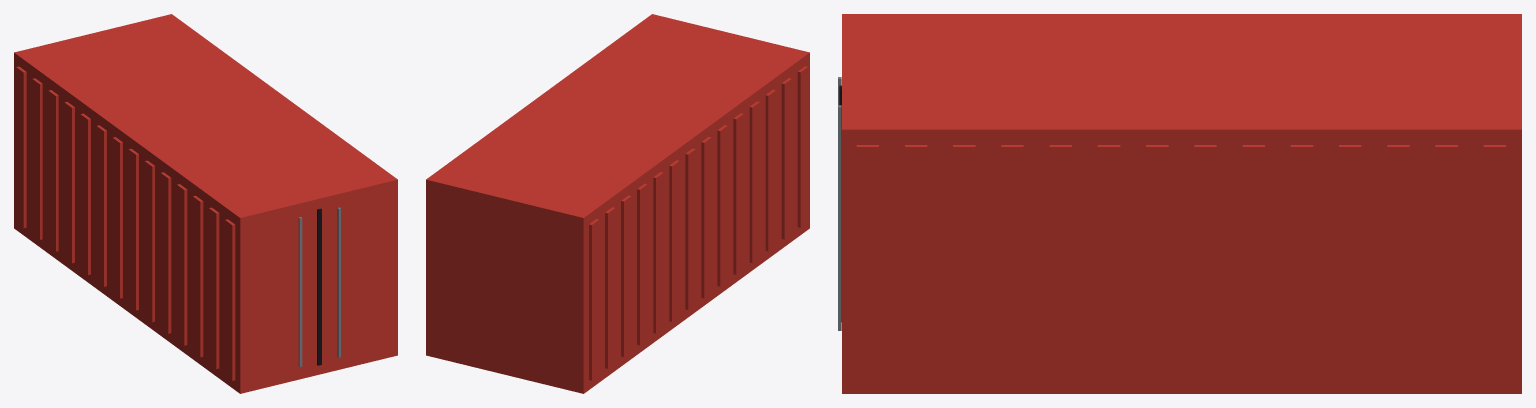
The model's file is container.glb.
3 views of the same model, side by side, from view 1: azimuth 30°, elevation 25°; view 2: azimuth 150°, elevation 25°; view 3: azimuth 270°, elevation 25° (orthographic). The views are drawn at different scales.
Visible parts, largest first — view 1: container_Body; view 2: container_Body; view 3: container_Body.
Boxes of the visible parts, x1,y1,x2,y2 form: container_Body: (14,14,397,393); container_Body: (426,14,809,393); container_Body: (838,14,1521,393).
Size of the model in its own units: 2.53 by 2.6 by 6.1.
